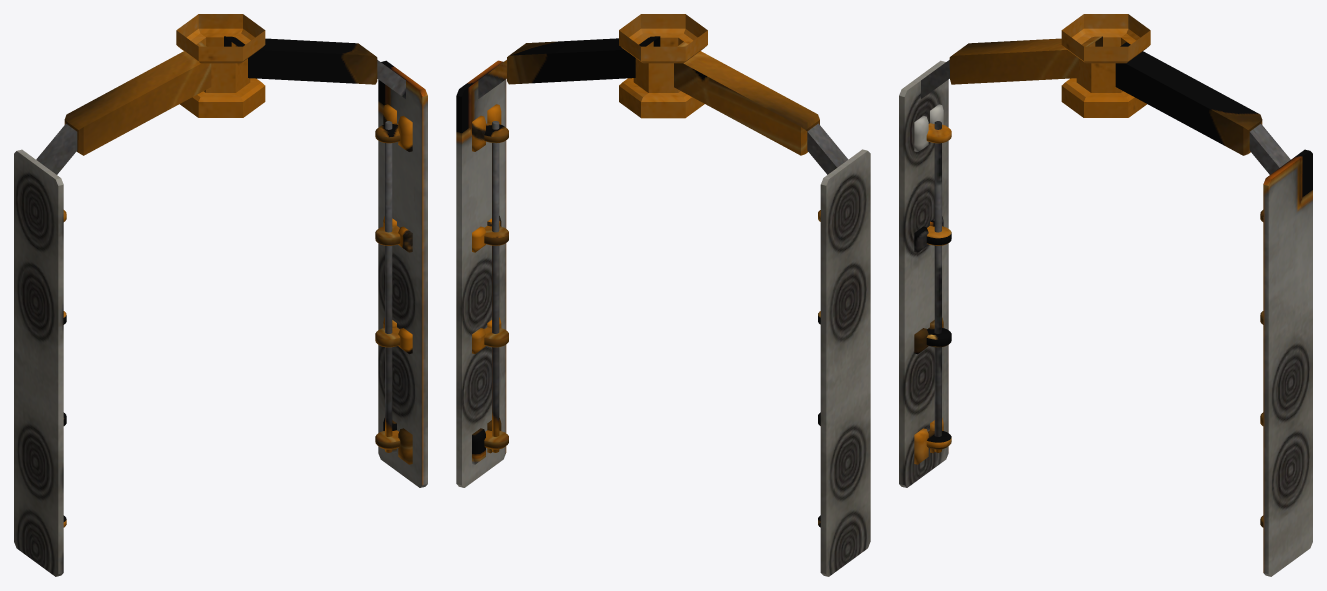
Rendered from 02_06_scan_chamber_arm.dae.
The picture shows the model from 3 angles, left to right: view 1: azimuth 30°, elevation 25°; view 2: azimuth 150°, elevation 25°; view 3: azimuth 330°, elevation 25°; orthographic projection.
Visible parts, largest first — view 1: Mesh; view 2: Mesh; view 3: Mesh.
Part boxes in pixels (bbox=[...]): Mesh: bbox=[14, 14, 427, 576]; Mesh: bbox=[456, 14, 870, 576]; Mesh: bbox=[899, 14, 1312, 576].
Bounding box in the file's own units: 2.92 × 3.68 × 0.609.
